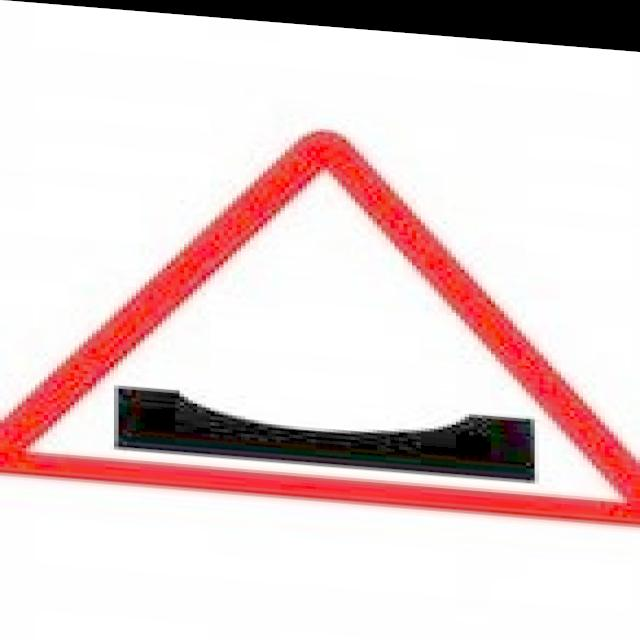DANGEROUS_DIP: (0, 91, 640, 522)
